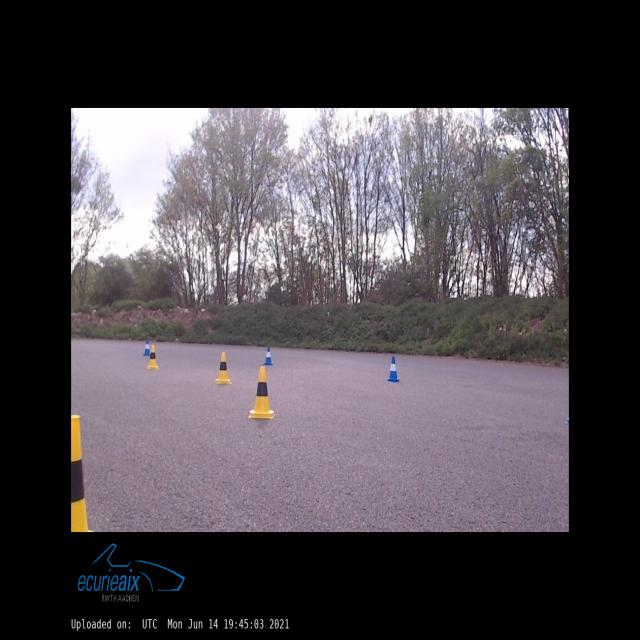blue_cone: (387, 356, 399, 382), (264, 347, 272, 365), (144, 341, 150, 355)
yellow_cone: (71, 415, 88, 531), (248, 367, 275, 418), (215, 352, 232, 383), (147, 346, 158, 368)
